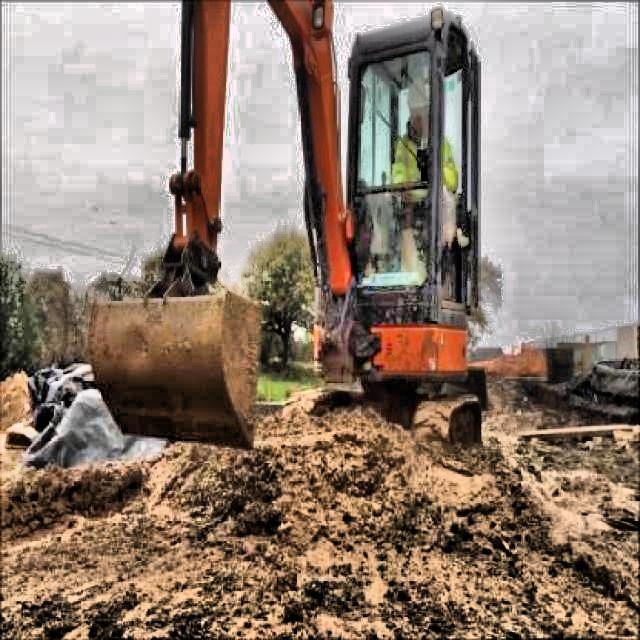excavator: (86, 0, 489, 452)
